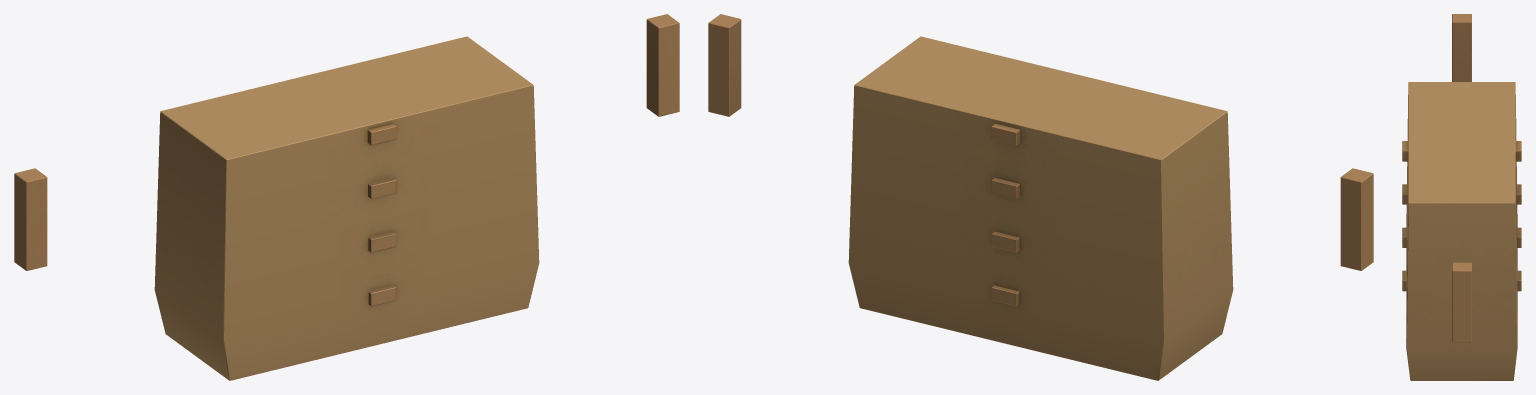
File: IT_wood_chestplate.glb
3 views of the same model, side by side, from view 1: azimuth 30°, elevation 25°; view 2: azimuth 150°, elevation 25°; view 3: azimuth 270°, elevation 25° (orthographic). The views are drawn at different scales.
Visible parts, largest first — view 1: IT_wood_chestplate; view 2: IT_wood_chestplate; view 3: IT_wood_chestplate.
Boxes of the visible parts, bbox=[...] form: IT_wood_chestplate: bbox=[14, 14, 679, 380]; IT_wood_chestplate: bbox=[708, 14, 1373, 380]; IT_wood_chestplate: bbox=[1402, 14, 1521, 380].
Bounding box in the file's own units: 1.53 × 0.5 × 0.3.
1 material, 1 textured.
